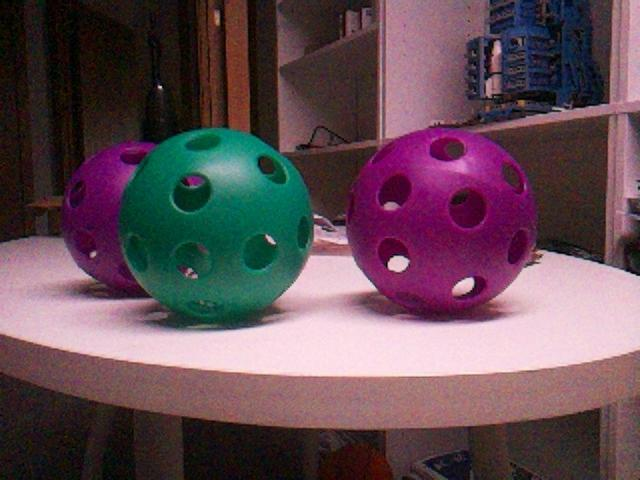Green: (117, 128, 313, 321)
Purple: (345, 128, 537, 313), (61, 142, 155, 292)
